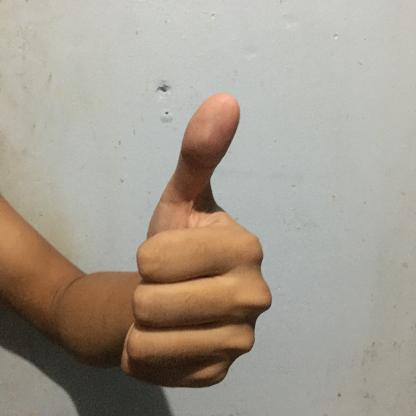good: (110, 89, 280, 396)
